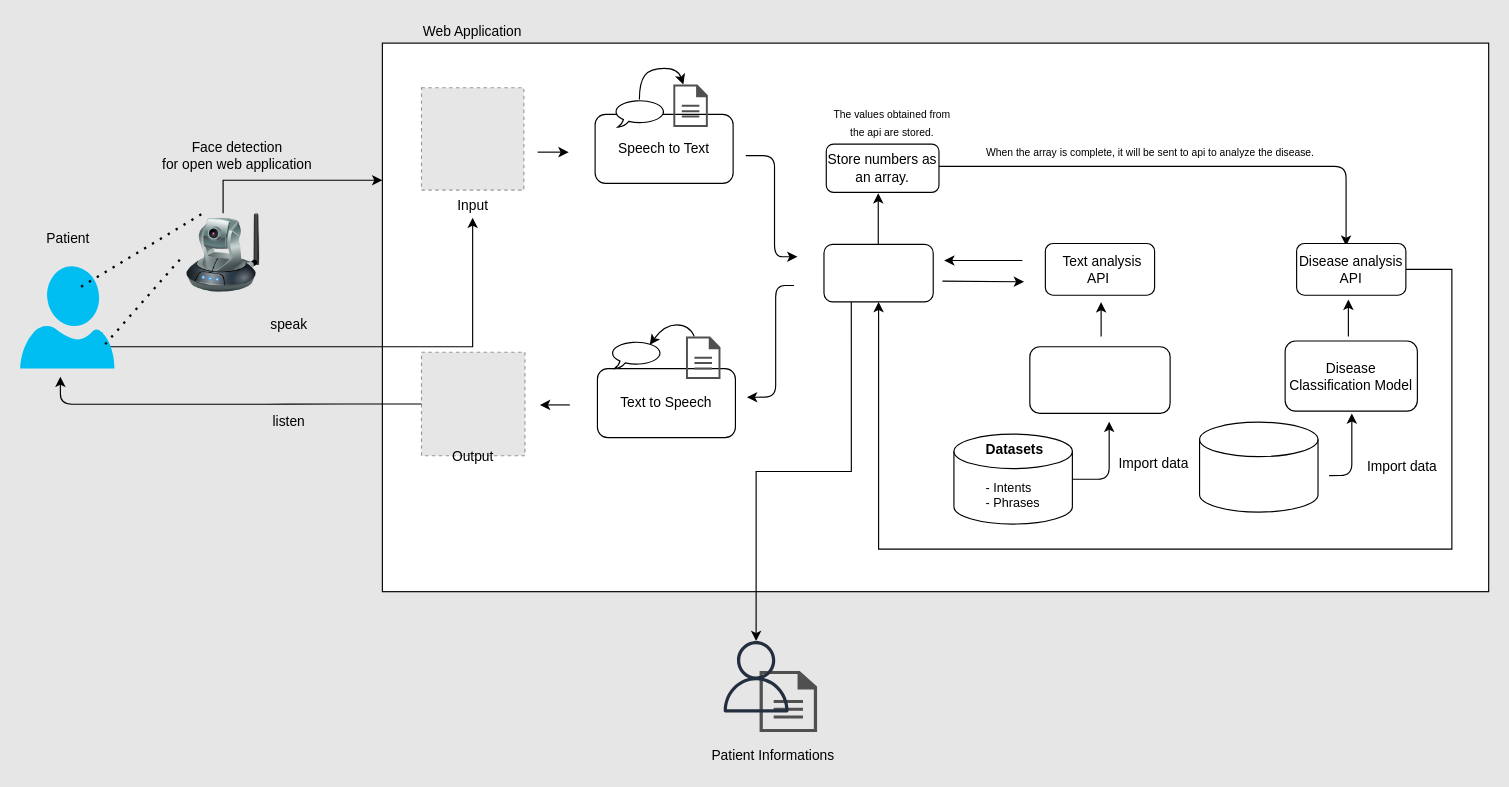
Some shapes in this 1509 by 787 pixel diagram are drawn without their labels. Grey dashed boxes stand in for pictures. The shapes that lost their labels are listed below. From the top down, each one's centre as x and y in pixels, then its label:
At (878,272): "Conversation Rule base".
At (1099,379): "NLP processing ( Sentiment Analysis Model )".
At (1258,466): "Datasets - symptom - Disease type".
